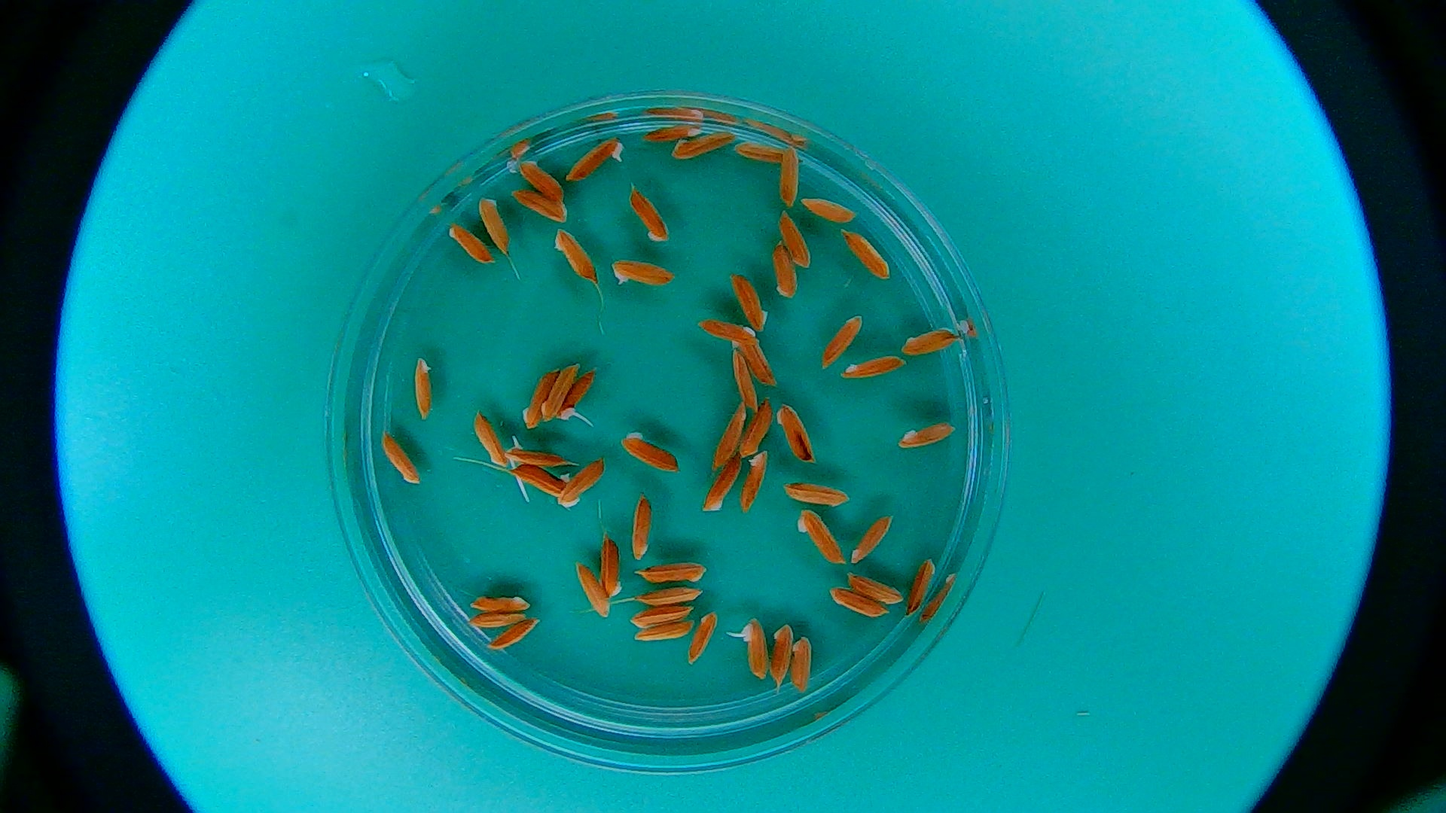no: (838, 225, 896, 282), (615, 429, 682, 477), (794, 505, 845, 568), (551, 224, 601, 287), (700, 451, 747, 514), (557, 457, 610, 512), (729, 328, 778, 387), (711, 397, 749, 473), (773, 401, 819, 462), (375, 431, 423, 489), (627, 184, 672, 245), (505, 462, 574, 501), (572, 556, 612, 623), (730, 266, 769, 334), (520, 366, 560, 432), (541, 358, 581, 424), (778, 204, 818, 269), (825, 585, 893, 622), (610, 253, 676, 291), (476, 192, 514, 257), (850, 509, 893, 566), (779, 477, 853, 510), (739, 449, 775, 516), (518, 156, 569, 203), (508, 185, 569, 224), (895, 419, 962, 454), (844, 567, 904, 606), (821, 313, 862, 370), (632, 556, 709, 586), (728, 349, 763, 413), (447, 221, 495, 267), (798, 192, 862, 226), (905, 555, 940, 617), (472, 408, 508, 468), (670, 129, 735, 162), (696, 312, 760, 345), (487, 616, 544, 653), (742, 393, 773, 461), (734, 136, 804, 166), (767, 239, 801, 300), (599, 532, 627, 604), (900, 326, 961, 359), (413, 354, 438, 429), (630, 489, 654, 566), (775, 139, 801, 209), (837, 354, 909, 379), (633, 584, 704, 609), (688, 609, 719, 665), (627, 605, 695, 629), (630, 620, 694, 644), (770, 624, 793, 690), (468, 592, 532, 614), (791, 635, 813, 694), (642, 123, 709, 140), (466, 611, 527, 629)
yes: (565, 139, 624, 182), (554, 370, 597, 425), (505, 440, 581, 470), (740, 614, 770, 678)
